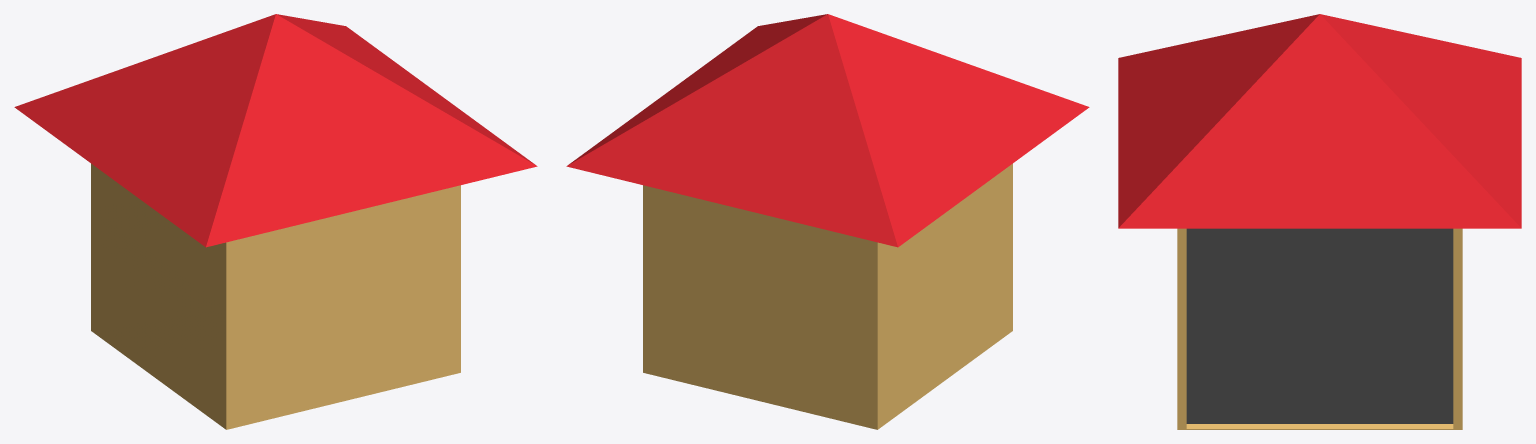
The model's file is Garage.dae.
3 views of the same model, side by side, from view 1: azimuth 30°, elevation 25°; view 2: azimuth 150°, elevation 25°; view 3: azimuth 270°, elevation 25° (orthographic). The views are drawn at different scales.
Visible parts, largest first — view 1: Cone; view 2: Cone; view 3: Cone.
Boxes of the visible parts, bbox=[...] form: Cone: bbox=[14, 14, 537, 429]; Cone: bbox=[566, 14, 1089, 429]; Cone: bbox=[1118, 14, 1521, 429].
Bounding box in the file's own units: 2.83 × 2.83 × 2.75.
